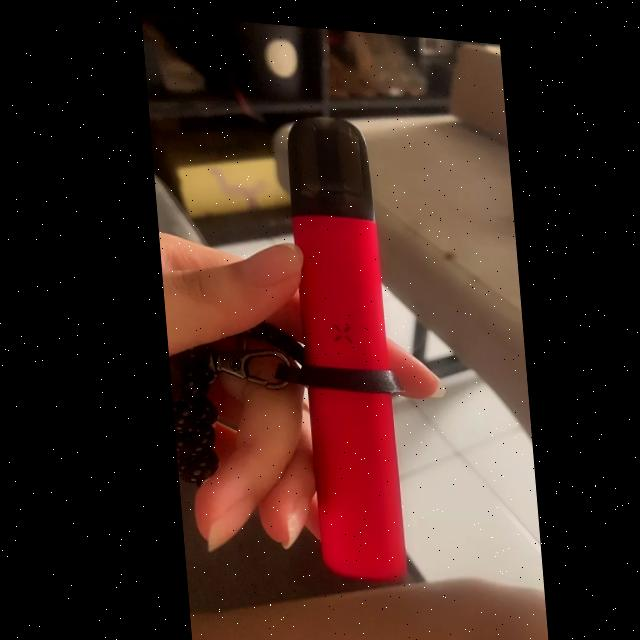vape: (282, 103, 397, 578)
